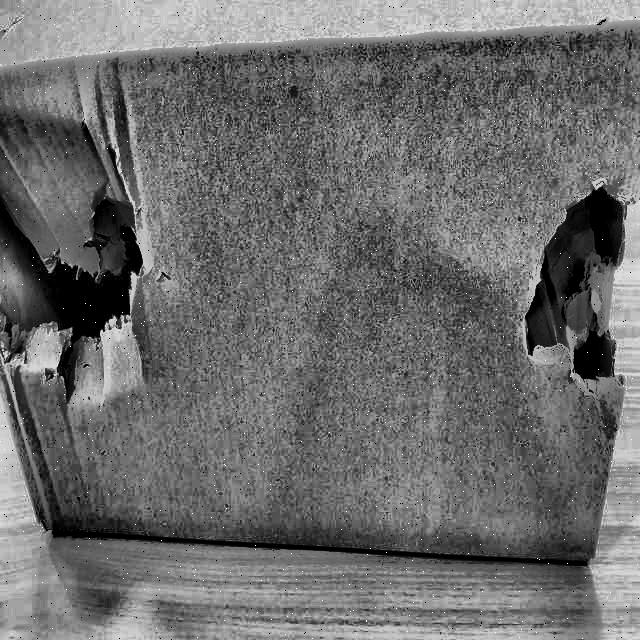box: (1, 0, 640, 575)
hole: (0, 152, 152, 410), (525, 180, 635, 388)
